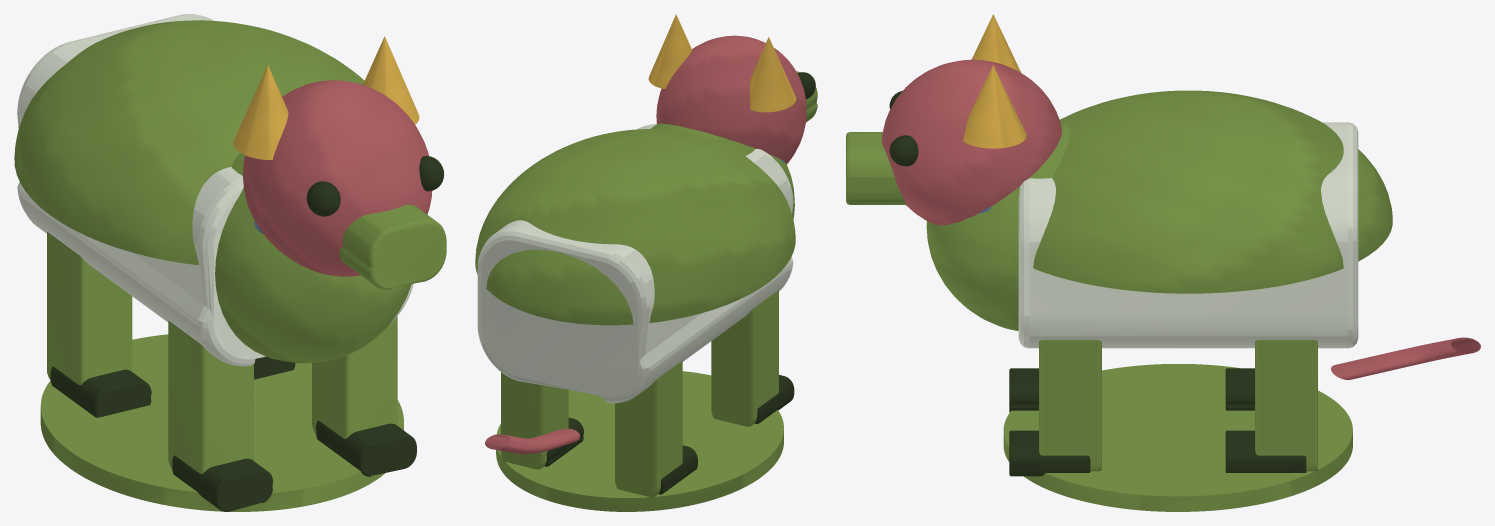
File: 1298_爬行动物图鉴_铲鼻蜥.glb
3 renders of one model, left to right at view 1: azimuth 30°, elevation 25°; view 2: azimuth 150°, elevation 25°; view 3: azimuth 270°, elevation 25°, orthographic. The views are drawn at different scales.
Visible parts, largest first — view 1: card_1298; view 2: card_1298; view 3: card_1298.
Part boxes in pixels (x1,y1,x2,y2): card_1298: (14, 14, 446, 511); card_1298: (475, 14, 817, 511); card_1298: (846, 14, 1480, 511).
Size of the model in its own units: 0.7623 by 1 by 1.42.
